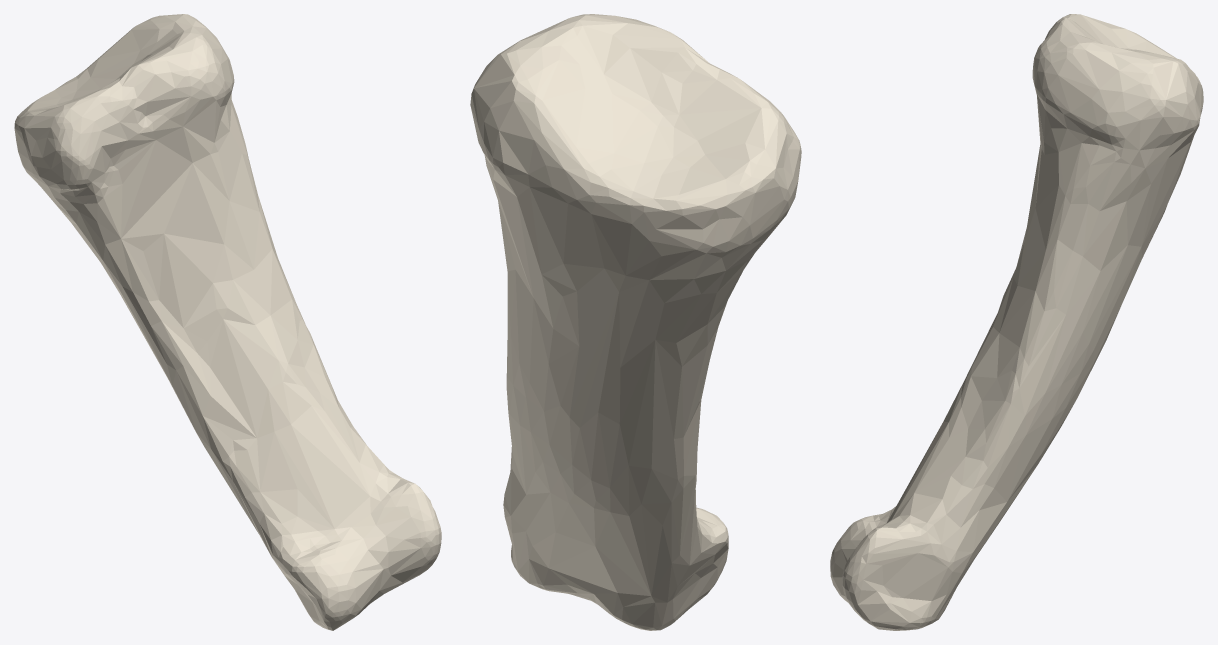
File: left_index_proximal_phalanx.glb
3 views of the same model, side by side, from view 1: azimuth 30°, elevation 25°; view 2: azimuth 150°, elevation 25°; view 3: azimuth 270°, elevation 25° (orthographic). The views are drawn at different scales.
Parts seen in each view (by area): view 1: left_index_proximal_phalanx; view 2: left_index_proximal_phalanx; view 3: left_index_proximal_phalanx.
Boxes of the visible parts, left/top/right/bottom form: left_index_proximal_phalanx: left=14, top=14, right=441, bottom=630; left_index_proximal_phalanx: left=470, top=14, right=801, bottom=630; left_index_proximal_phalanx: left=830, top=14, right=1203, bottom=630.
Bounding box in the file's own units: 0.0221 × 0.0378 × 0.0231.
